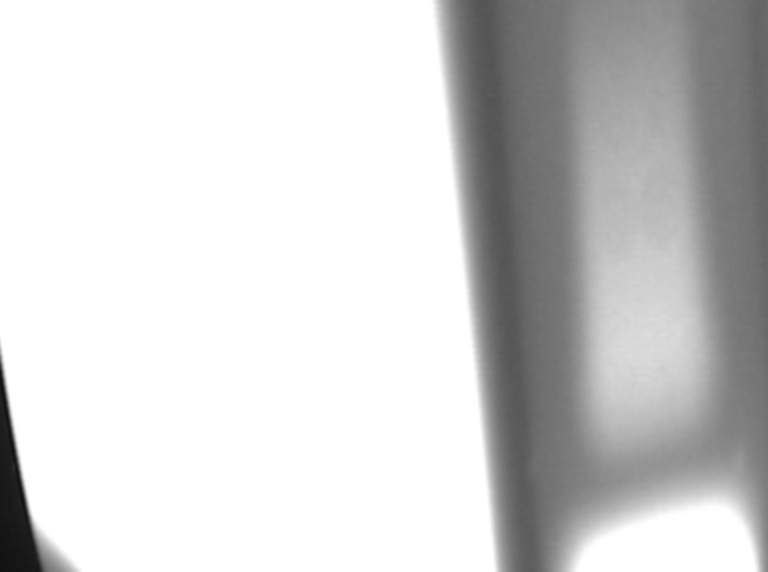defect: (525, 456, 541, 490)
